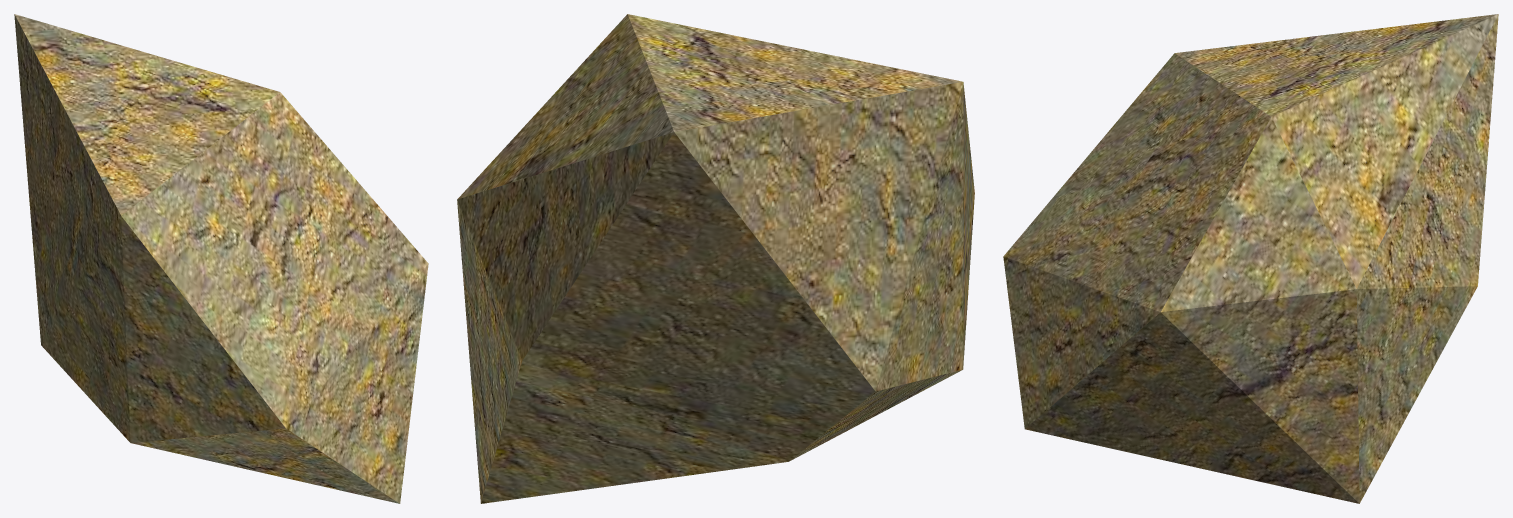
File: rock5.fbx
3 views of the same model, side by side, from view 1: azimuth 30°, elevation 25°; view 2: azimuth 150°, elevation 25°; view 3: azimuth 270°, elevation 25° (orthographic). The views are drawn at different scales.
Visible parts, largest first — view 1: Rock5; view 2: Rock5; view 3: Rock5.
Part boxes in pixels (x1,y1,x2,y2): Rock5: (14,14,428,503); Rock5: (457,14,974,503); Rock5: (1003,14,1498,503).
Bounding box in the file's own units: 9.55 × 11.6 × 13.53.
